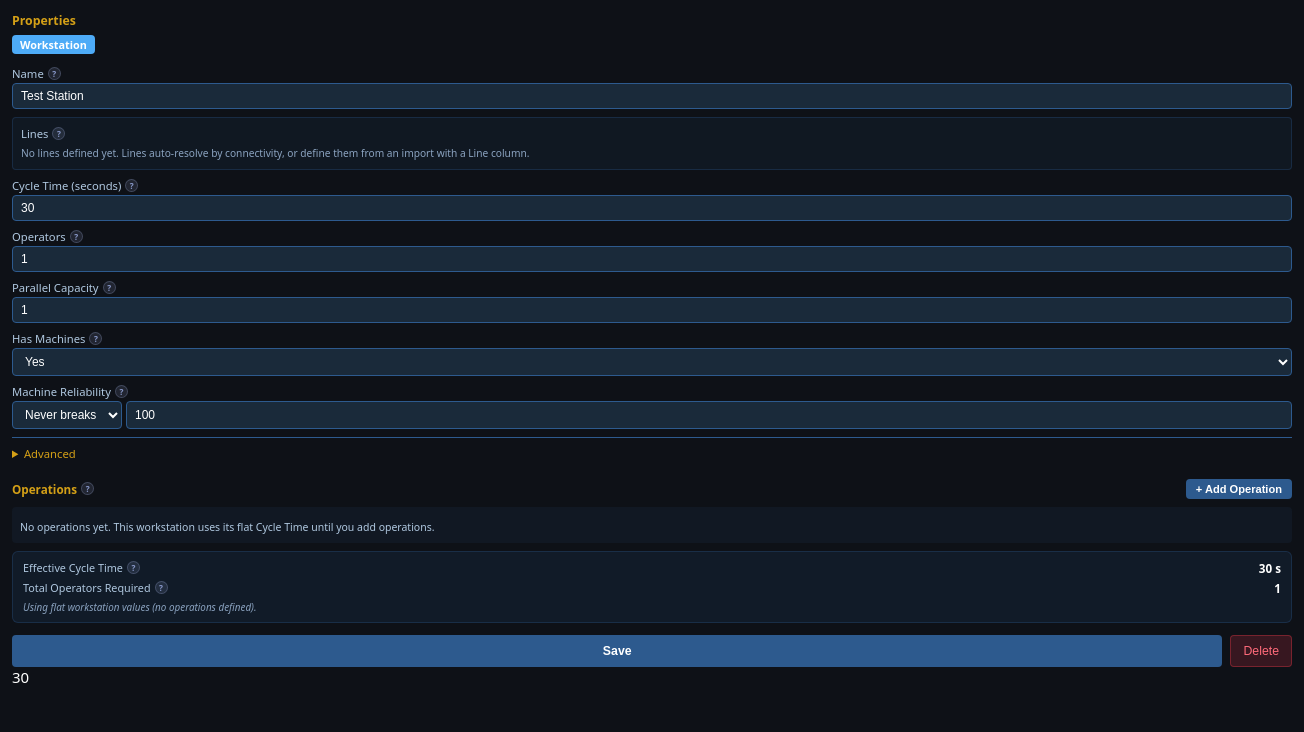
Test: PropertiesPanel › updates a numeric station field on save
# cycle_time is the only field with the value 30 on the default station.
Replace the text in the number field showing "30" below "Cycle Time (seconds)" with "45" at (652, 208), box [12,195,1292,221]
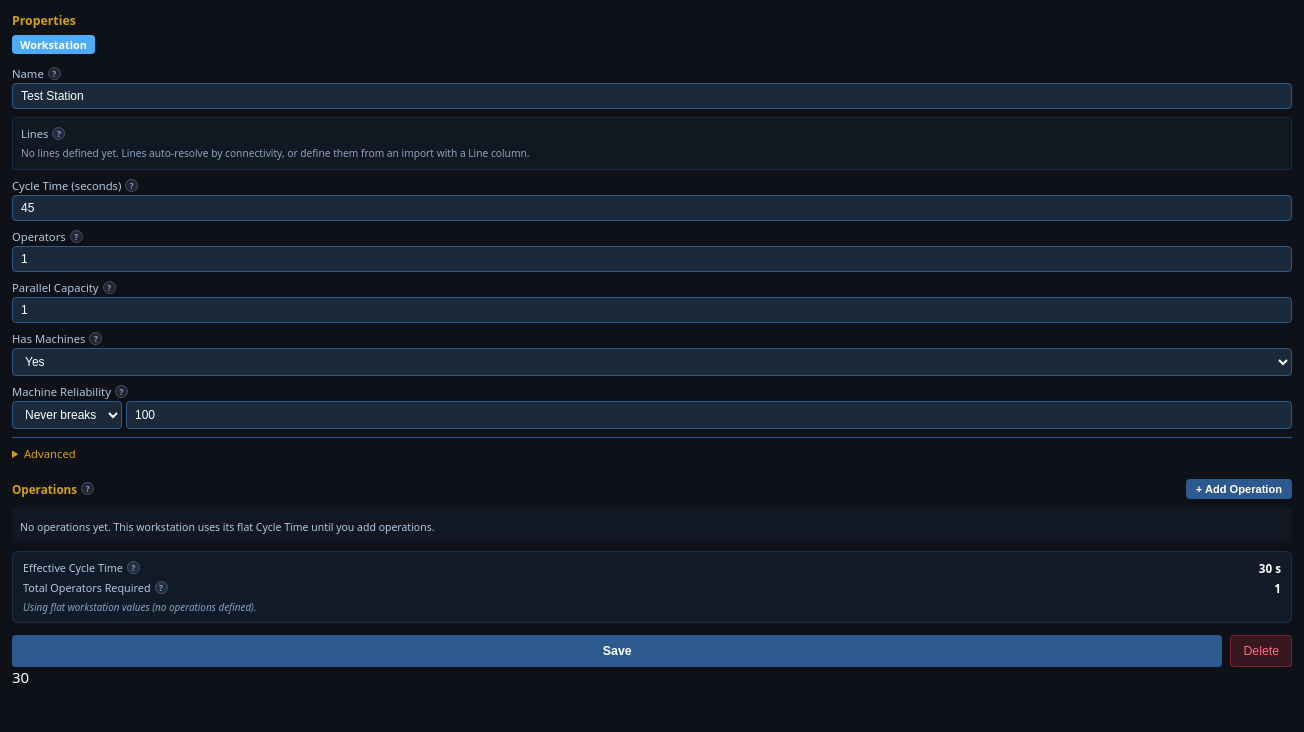
Click the button "Save" at (617, 651), box [12,635,1222,667]
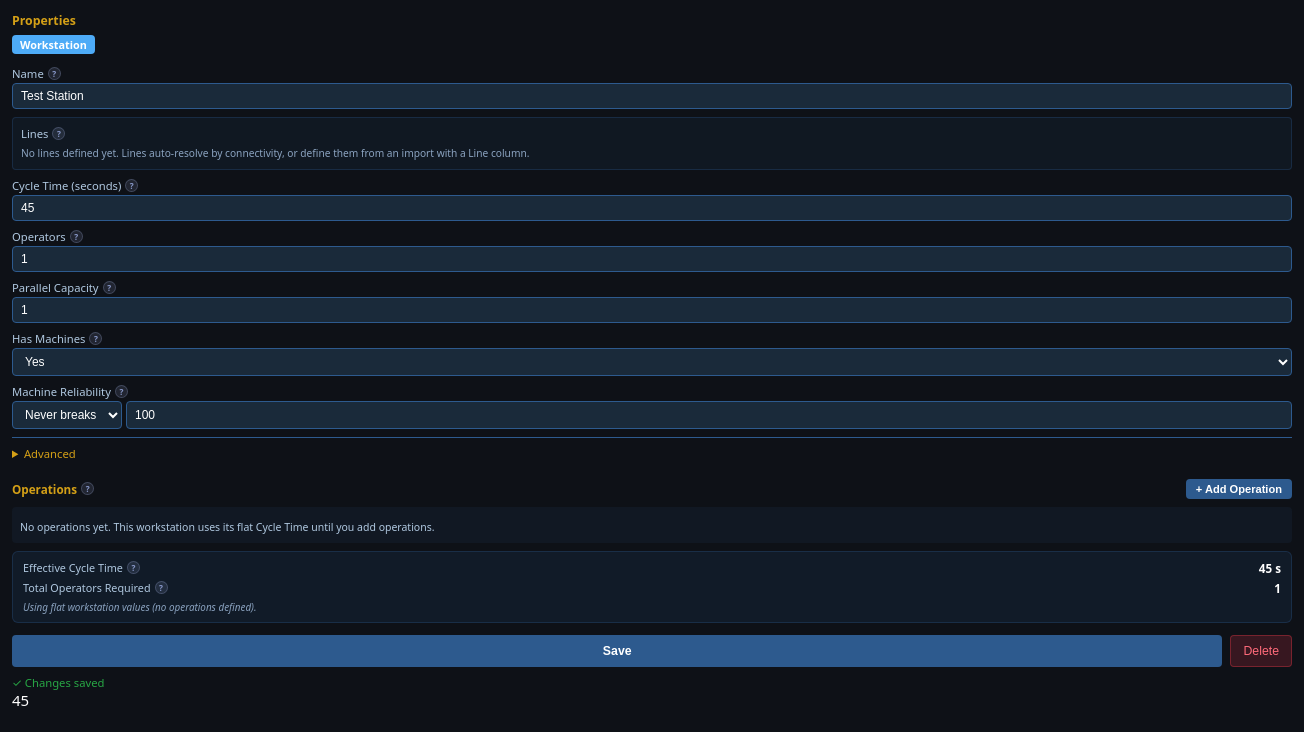
Check: the text with test id "cycle-time" reads "45", box [12,690,29,710]
